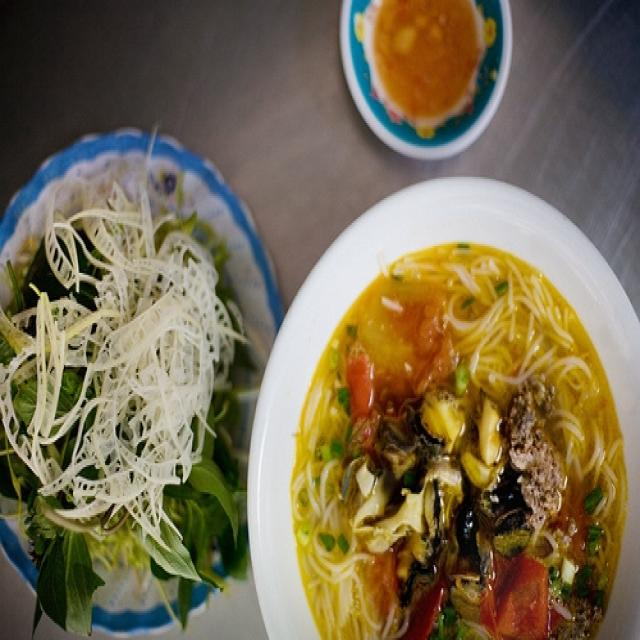面条主食: (9, 4, 627, 615)
